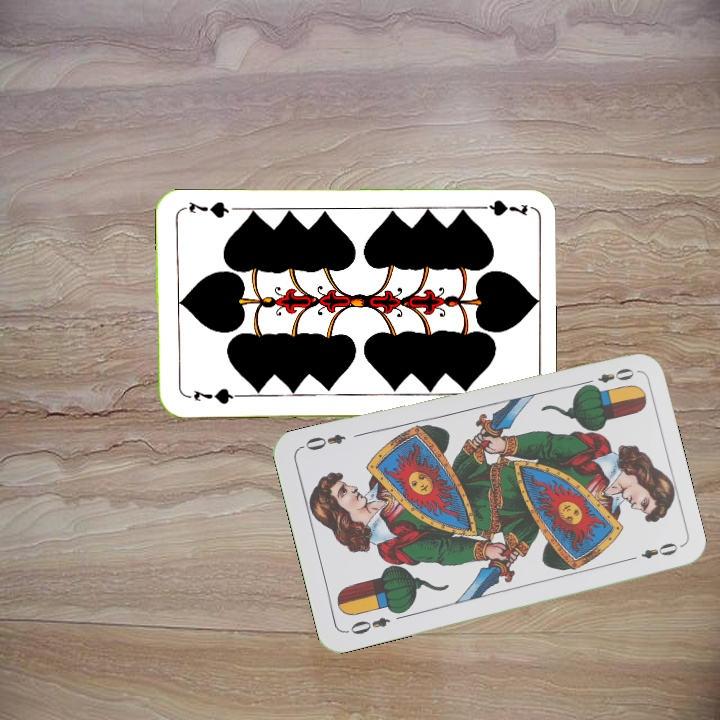EO: (579, 364, 637, 390), (342, 613, 393, 637)
G7: (470, 196, 529, 219), (190, 384, 240, 407)
